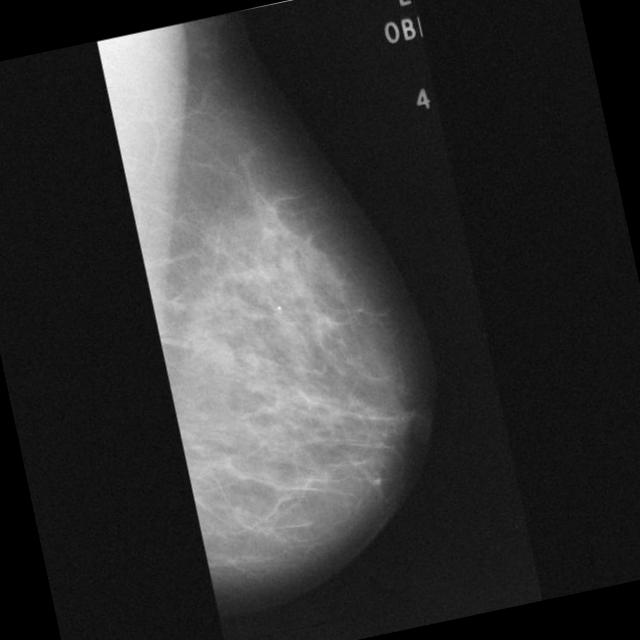CIRC: (205, 338, 235, 368)
